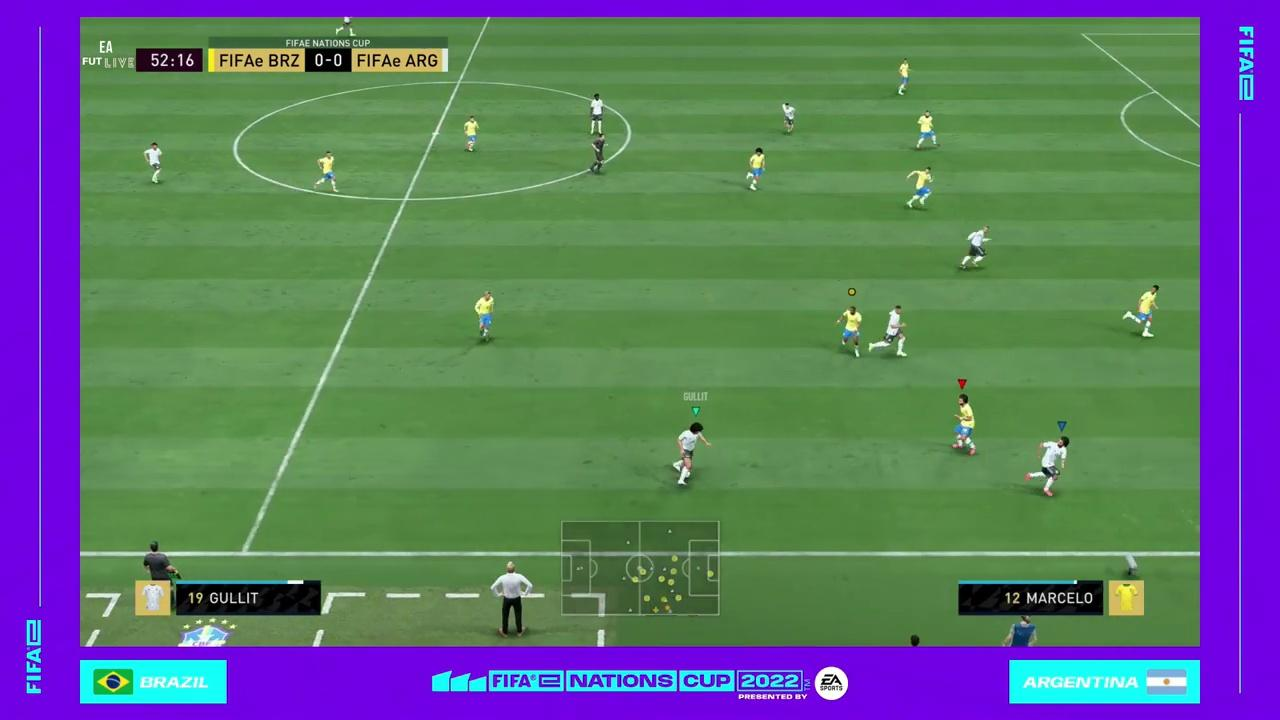scoreboard: (204, 46, 449, 77)
timestamp: (135, 47, 202, 72)
